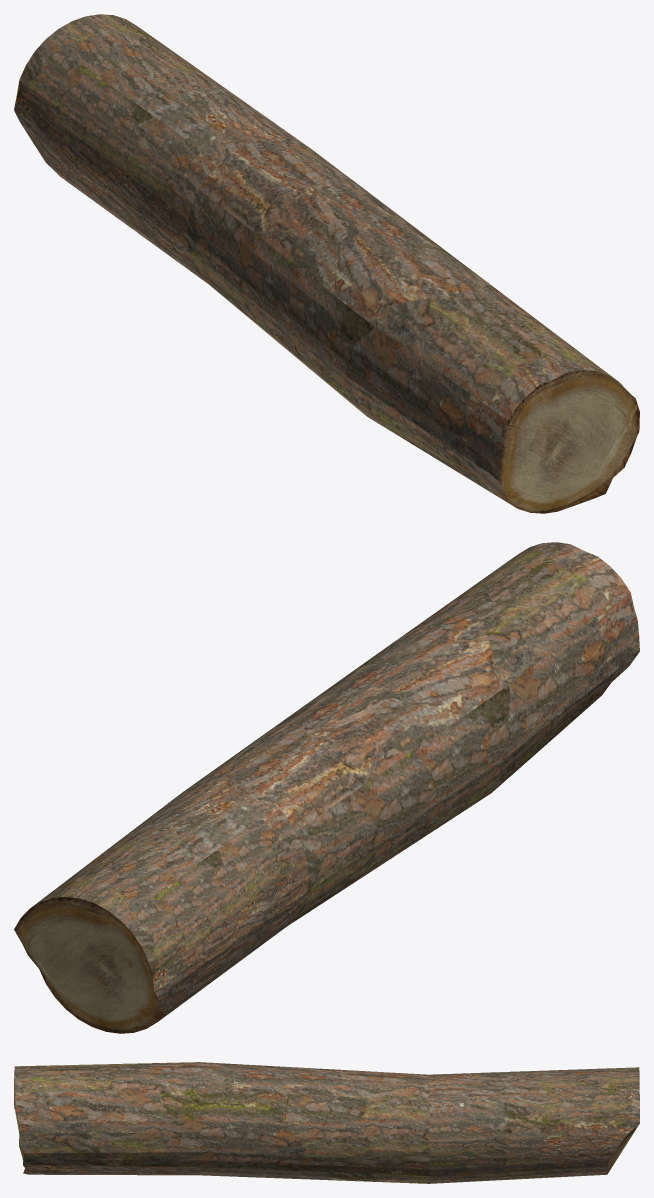
File: log.glb
3 renders of one model, top to bottom at view 1: azimuth 30°, elevation 25°; view 2: azimuth 150°, elevation 25°; view 3: azimuth 270°, elevation 25°, orthographic. The views are drawn at different scales.
Visible parts, largest first — view 1: Cylinder.001; view 2: Cylinder.001; view 3: Cylinder.001.
Part boxes in pixels (x1=…): Cylinder.001: x1=14, y1=14, x2=639, y2=513; Cylinder.001: x1=14, y1=542, x2=639, y2=1033; Cylinder.001: x1=14, y1=1062, x2=639, y2=1183.
Bounding box in the file's own units: 0.615 × 0.5829 × 3.11.
2 materials, 2 textured.
